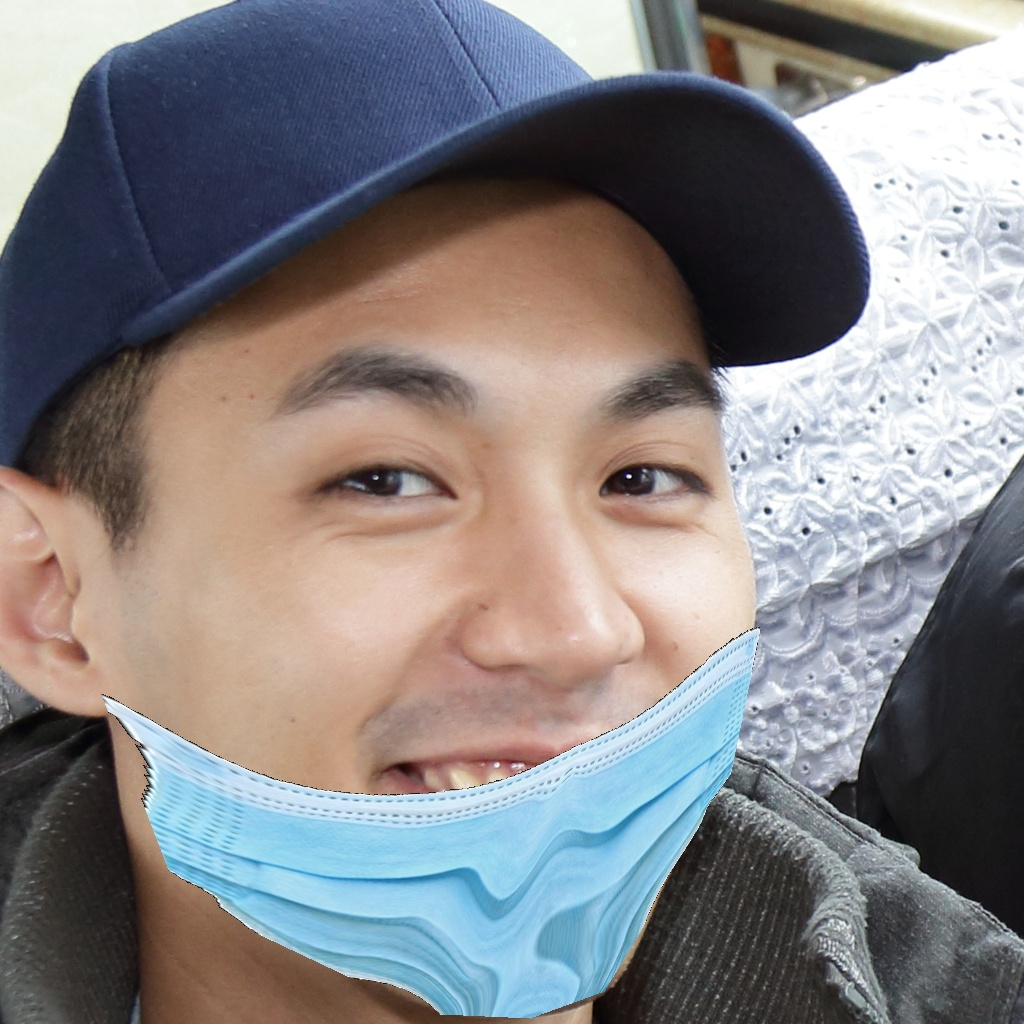mascarilla_mal_puesta: (89, 398, 797, 1003)
